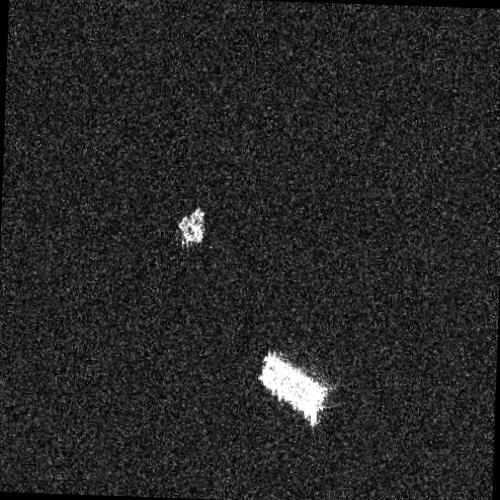ship: (258, 350, 329, 425)
